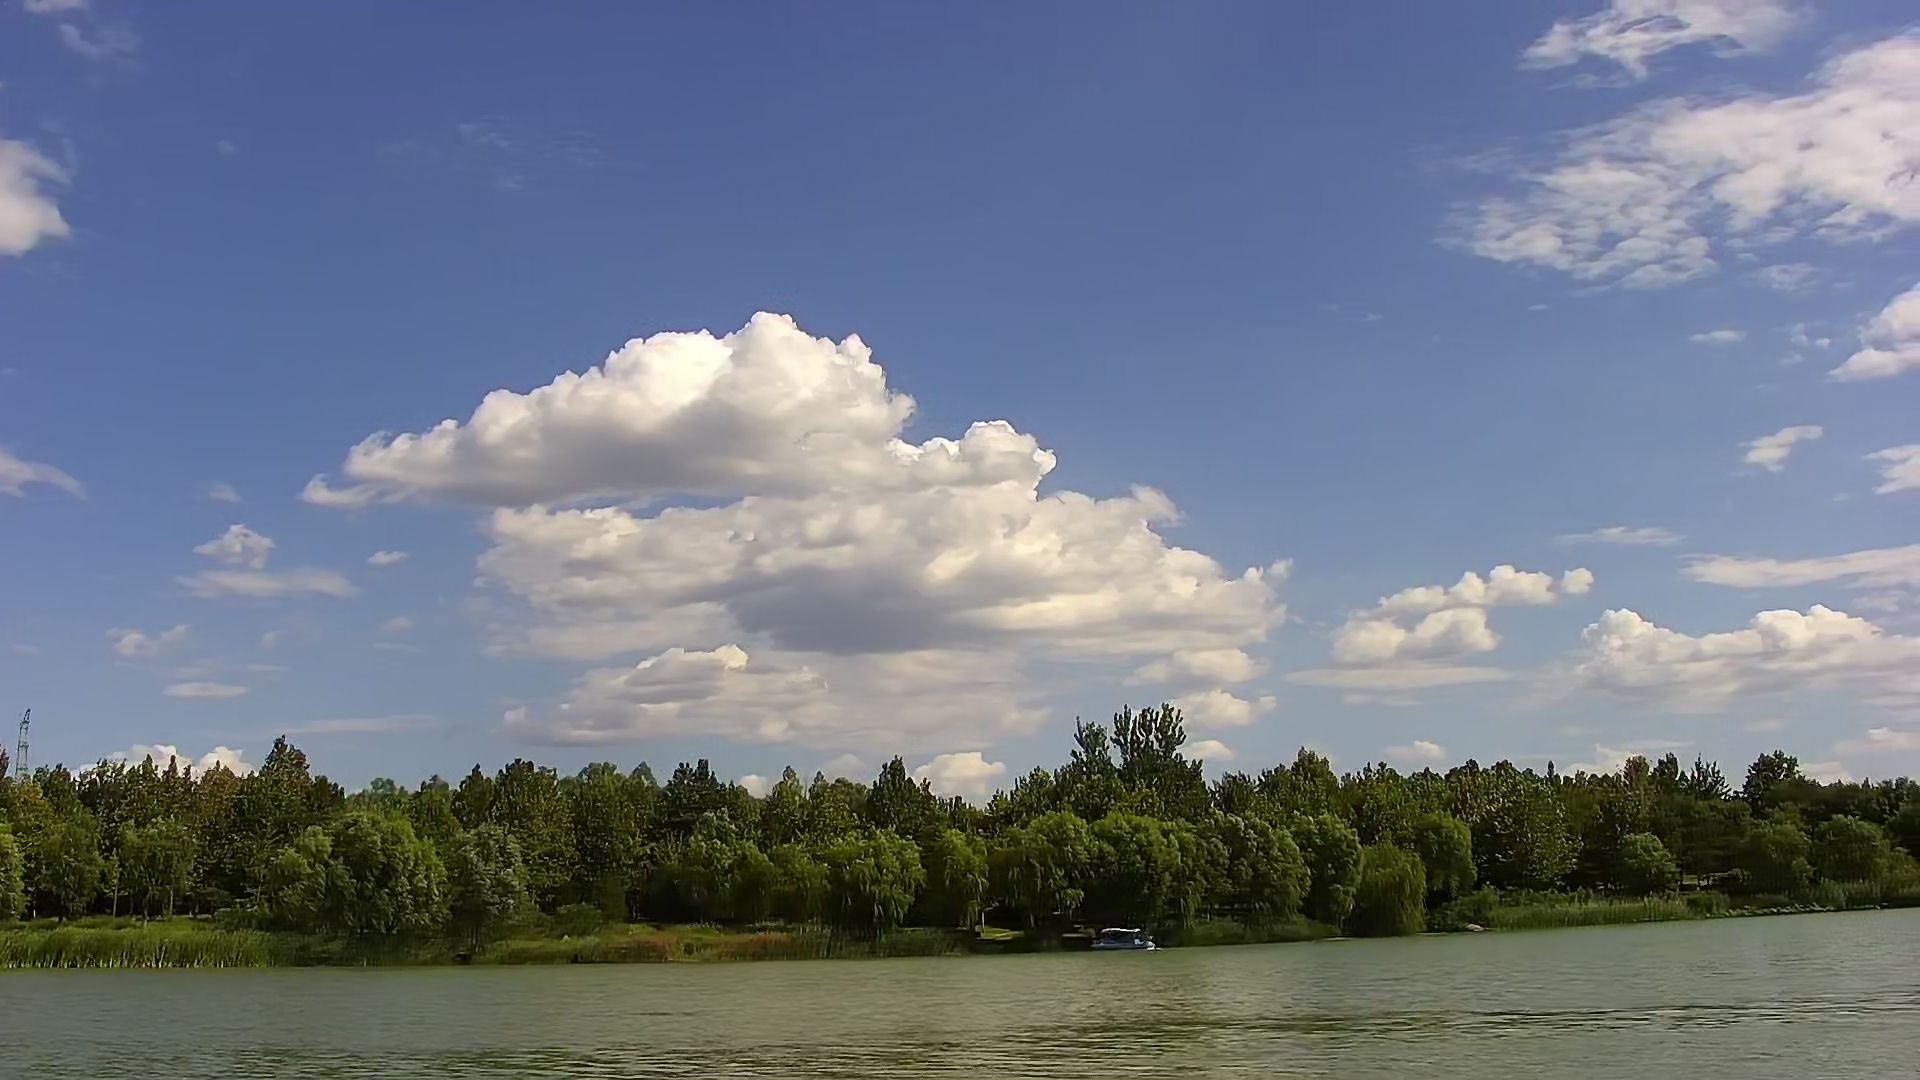boat: (1091, 926, 1158, 953)
